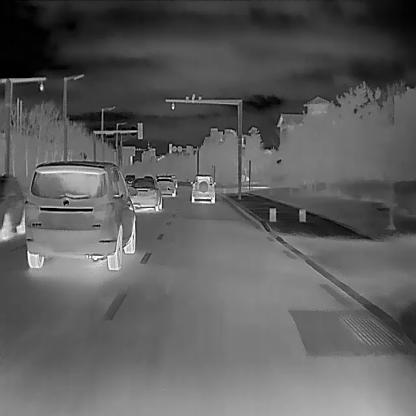car: (24, 158, 136, 270), (0, 170, 25, 242), (125, 175, 162, 211), (189, 173, 215, 202), (155, 175, 175, 197), (168, 173, 178, 188), (124, 173, 135, 186)
